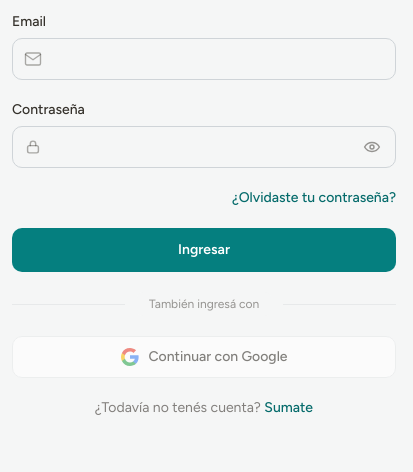
Scenario: LoginForm › muestra el error que devuelve loginAction
Type "maria@example.com" into the field labelled "Email". click: (204, 59)
box: [12, 38, 396, 80]
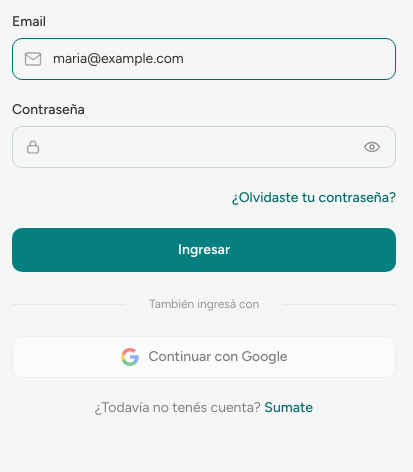
Type "mala" into the password field labelled "Contraseña". click: (204, 147)
box: [12, 126, 396, 168]
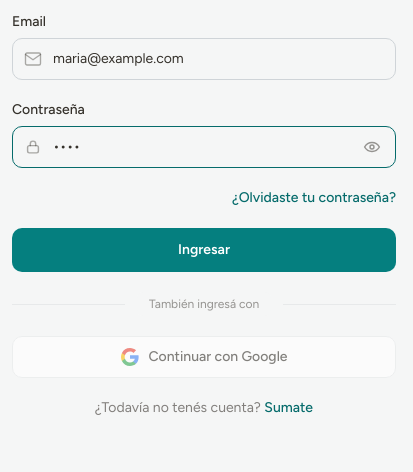
Click the button "Ingresar". click: click(204, 250)
box: [12, 228, 396, 272]
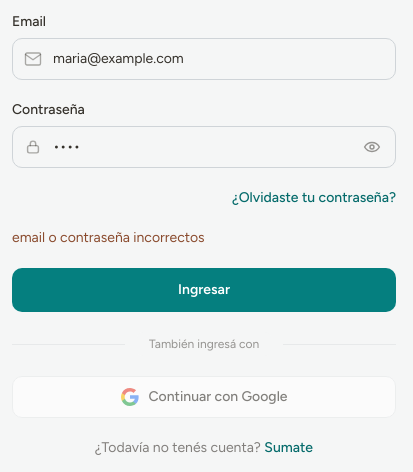
Expected: the message reads "email o contraseña incorrectos", [12, 229, 205, 246]
